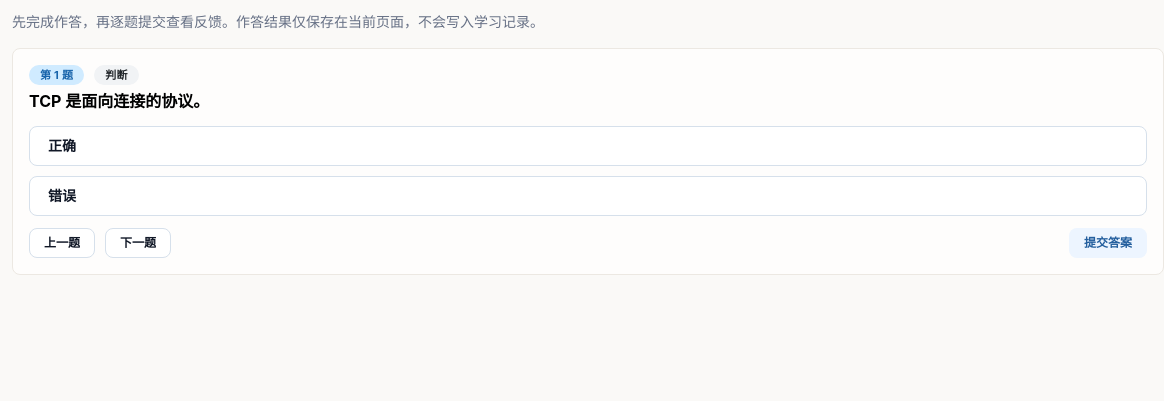
Scenario: GeneratedContentRenderer › renders task test answers only after a question is submitted
Check: the text "TCP 是面向连接的协议。" is shown, box [29,91,209,111]
Check: the text "正确答案：正确" is not shown
What coordinates should you click on to do the following:
click the button "正确"
I would click on:
 (62, 145)
Its box is [29,126,1147,166].
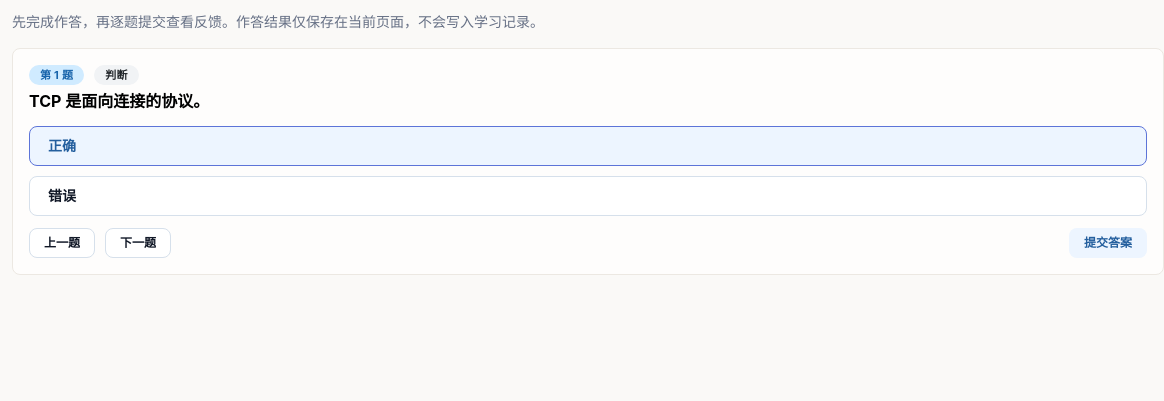
What coordinates should you click on to do the following:
click the button "提交答案"
I would click on:
 (1108, 243)
Its box is [1069,228,1147,258].
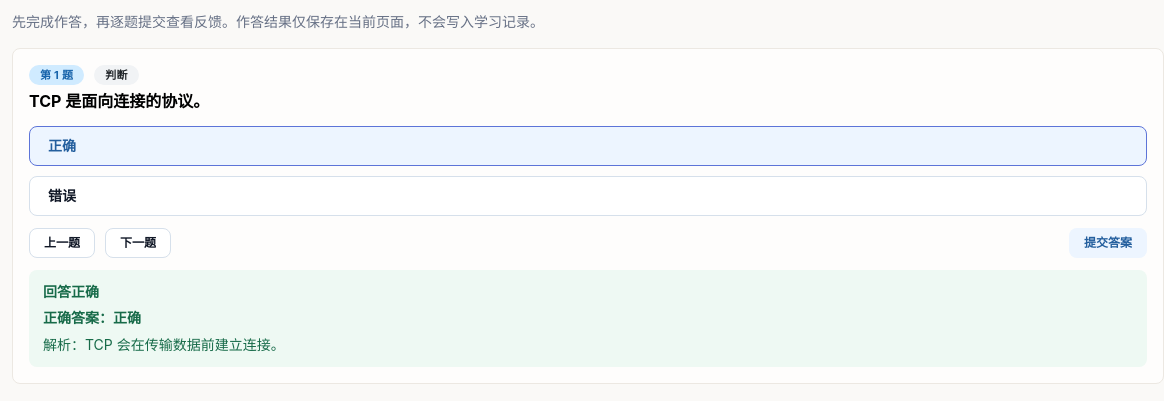
Check: the text "回答正确" is shown, box [43,283,99,300]
Check: the text "正确答案：正确" is shown, box [43,309,141,326]
